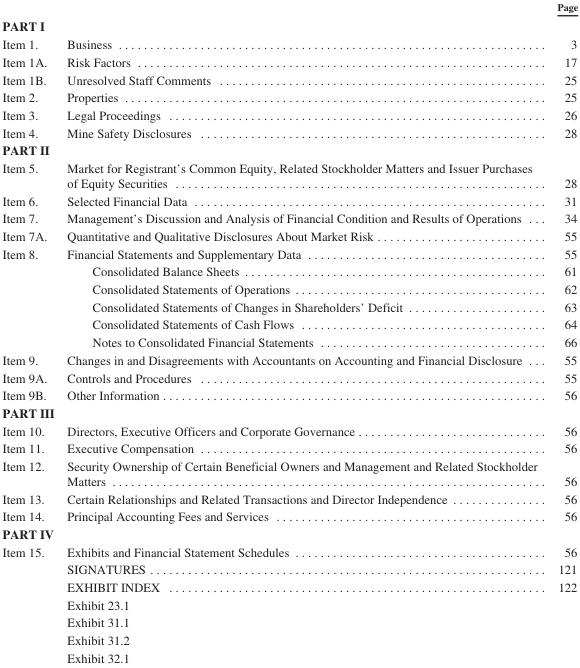table: (1, 0, 577, 664)
table column: (56, 0, 546, 664), (1, 0, 56, 664), (546, 0, 577, 664)
table column header: (1, 0, 577, 15)
table projected row header: (1, 15, 577, 35), (1, 140, 577, 158), (1, 403, 577, 421), (1, 524, 577, 542)
table row: (1, 158, 577, 191), (1, 456, 577, 489), (1, 15, 577, 35), (1, 52, 577, 70), (1, 70, 577, 88), (1, 105, 577, 123), (1, 140, 577, 158), (1, 191, 577, 209), (1, 226, 577, 244), (1, 244, 577, 262), (1, 279, 577, 297), (1, 297, 577, 315), (1, 315, 577, 333), (1, 350, 577, 368), (1, 368, 577, 386), (1, 403, 577, 421), (1, 421, 577, 439), (1, 489, 577, 507), (1, 524, 577, 542), (1, 542, 577, 560), (1, 577, 577, 595), (1, 595, 577, 613), (1, 630, 577, 648), (1, 35, 577, 52), (1, 88, 577, 105), (1, 123, 577, 140), (1, 209, 577, 226), (1, 262, 577, 279), (1, 333, 577, 350), (1, 386, 577, 403), (1, 439, 577, 456), (1, 507, 577, 524), (1, 560, 577, 577), (1, 613, 577, 630), (1, 648, 577, 664), (1, 0, 577, 15)
table spanning cell: (1, 542, 56, 664), (1, 244, 56, 350)
